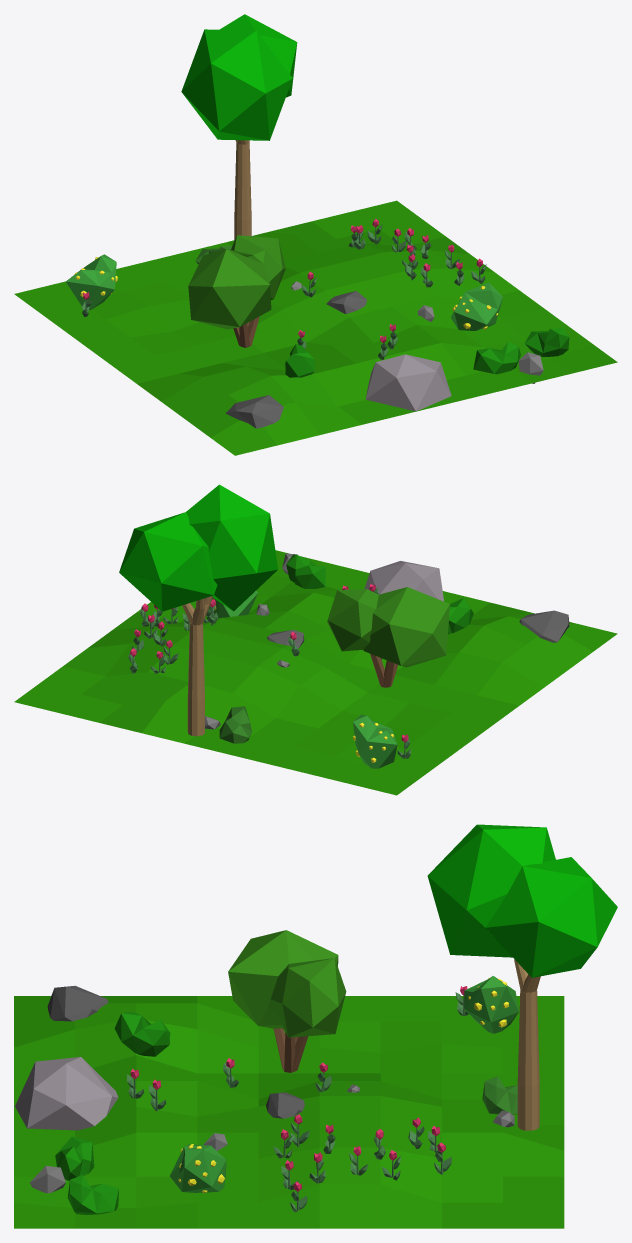
Rendered from MEADOW_FIELD01.fbx.
3 renders of one model, top to bottom at view 1: azimuth 30°, elevation 25°; view 2: azimuth 150°, elevation 25°; view 3: azimuth 270°, elevation 25°, orthographic. The views are drawn at different scales.
Parts seen in each view (by area): view 1: Icosphere; view 2: Icosphere; view 3: Icosphere.
Boxes of the visible parts, x1,y1,x2,y2 form: Icosphere: [14, 14, 617, 455]; Icosphere: [14, 484, 617, 795]; Icosphere: [14, 824, 617, 1228].
Bounding box in the file's own units: 1000 × 616 × 1098.
